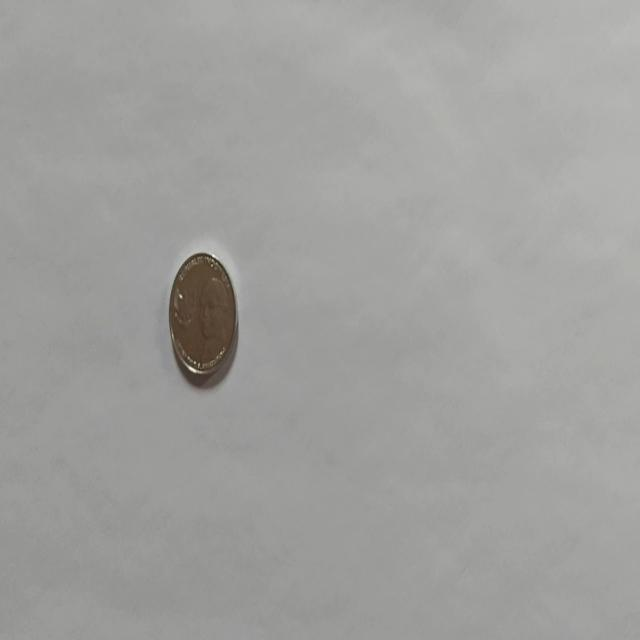lima ratus rupiah: (168, 250, 238, 378)
